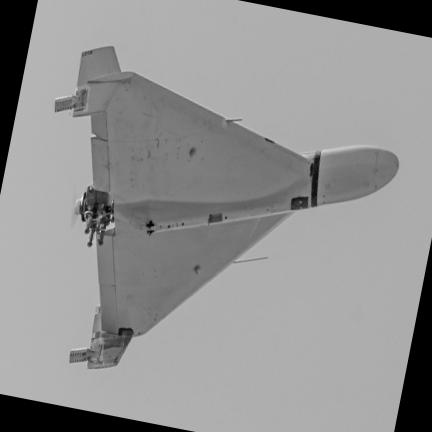Shahed: (56, 47, 398, 369)
